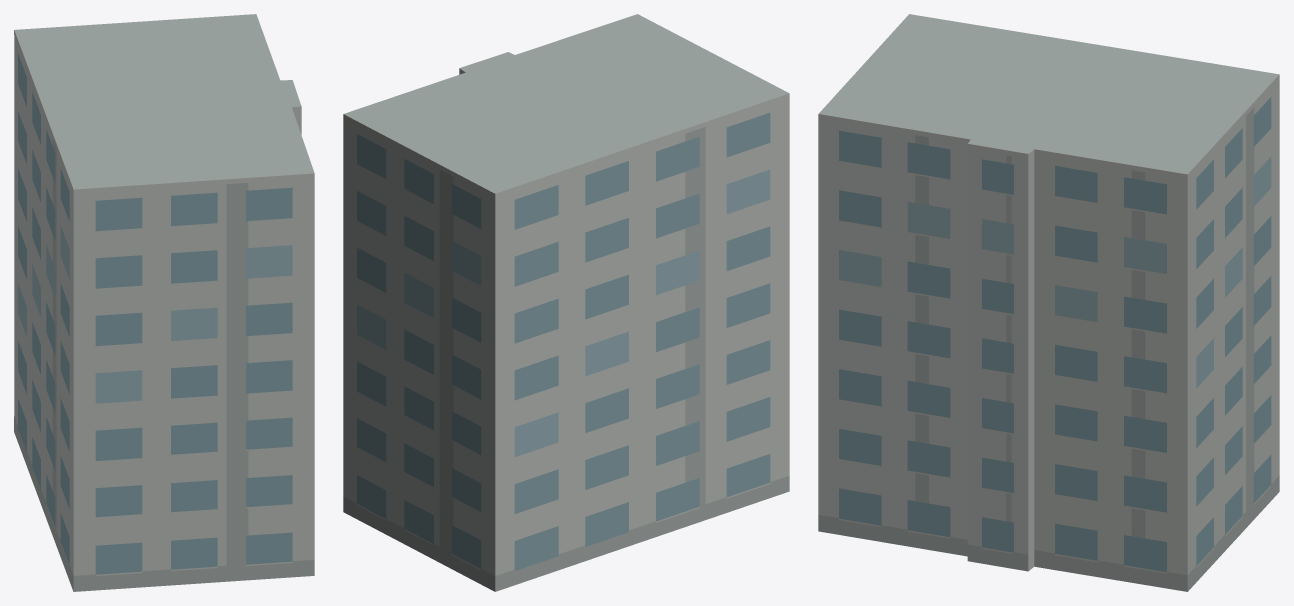
Rendered from survey-upis-32879228.glb.
3 views of the same model, side by side, from view 1: azimuth 30°, elevation 25°; view 2: azimuth 150°, elevation 25°; view 3: azimuth 270°, elevation 25° (orthographic). The views are drawn at different scales.
Visible parts, largest first — view 1: survey-upis-32879228.tmp; view 2: survey-upis-32879228.tmp; view 3: survey-upis-32879228.tmp.
Boxes of the visible parts, x1,y1,x2,y2 form: survey-upis-32879228.tmp: (14,14,314,591); survey-upis-32879228.tmp: (343,14,789,591); survey-upis-32879228.tmp: (818,14,1279,591).
Size of the model in its own units: 16.58 by 20.1 by 20.13.
